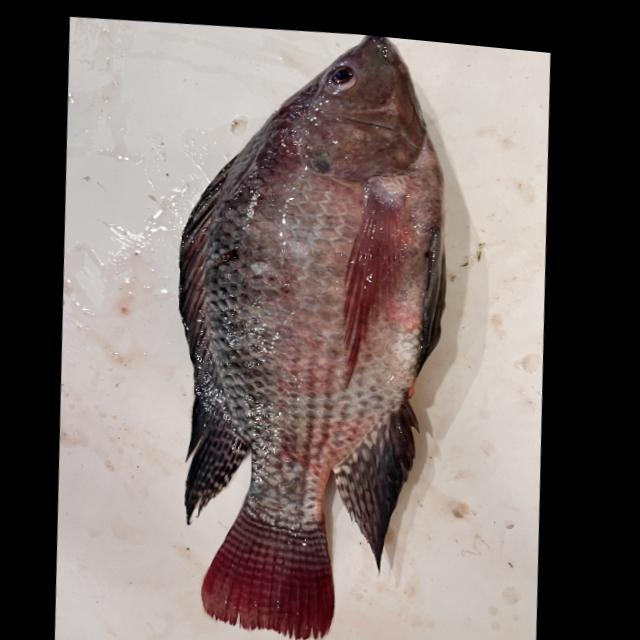Tilapia: (148, 18, 474, 640)
